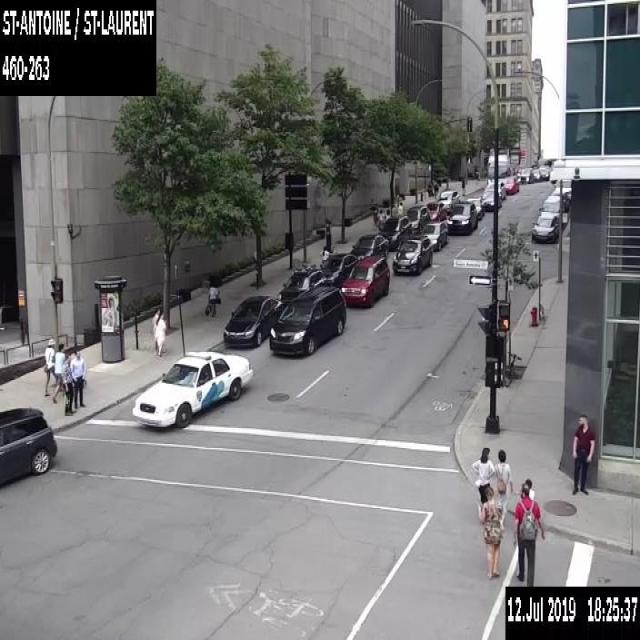bus: (487, 153, 507, 182)
pedestrian: (513, 482, 545, 584), (476, 484, 504, 580), (571, 413, 595, 498), (470, 446, 495, 516), (494, 448, 512, 516), (61, 351, 76, 414), (70, 350, 86, 408), (52, 342, 65, 402), (42, 336, 54, 396), (154, 310, 167, 358), (204, 280, 220, 317), (151, 308, 163, 354), (523, 477, 535, 500), (319, 244, 331, 263), (376, 208, 385, 229), (372, 206, 377, 229), (460, 178, 466, 195), (427, 182, 433, 197), (433, 182, 438, 199), (385, 208, 390, 220), (397, 201, 402, 213), (507, 166, 510, 175), (511, 166, 514, 174)
vehicle: (132, 349, 252, 427), (269, 284, 346, 354), (0, 404, 58, 491), (222, 294, 284, 344), (340, 255, 389, 306), (277, 262, 326, 306), (391, 234, 432, 274), (321, 252, 359, 286), (349, 233, 389, 260), (381, 214, 412, 248), (447, 200, 477, 232), (538, 194, 566, 226), (530, 214, 558, 242), (420, 221, 447, 250), (406, 204, 429, 234), (438, 188, 460, 212), (480, 189, 501, 210), (426, 200, 446, 221), (466, 197, 484, 220), (550, 190, 570, 210), (484, 180, 505, 198), (554, 179, 570, 197), (503, 175, 518, 194), (519, 168, 533, 182), (538, 164, 549, 179), (531, 168, 541, 180), (516, 167, 521, 176)
